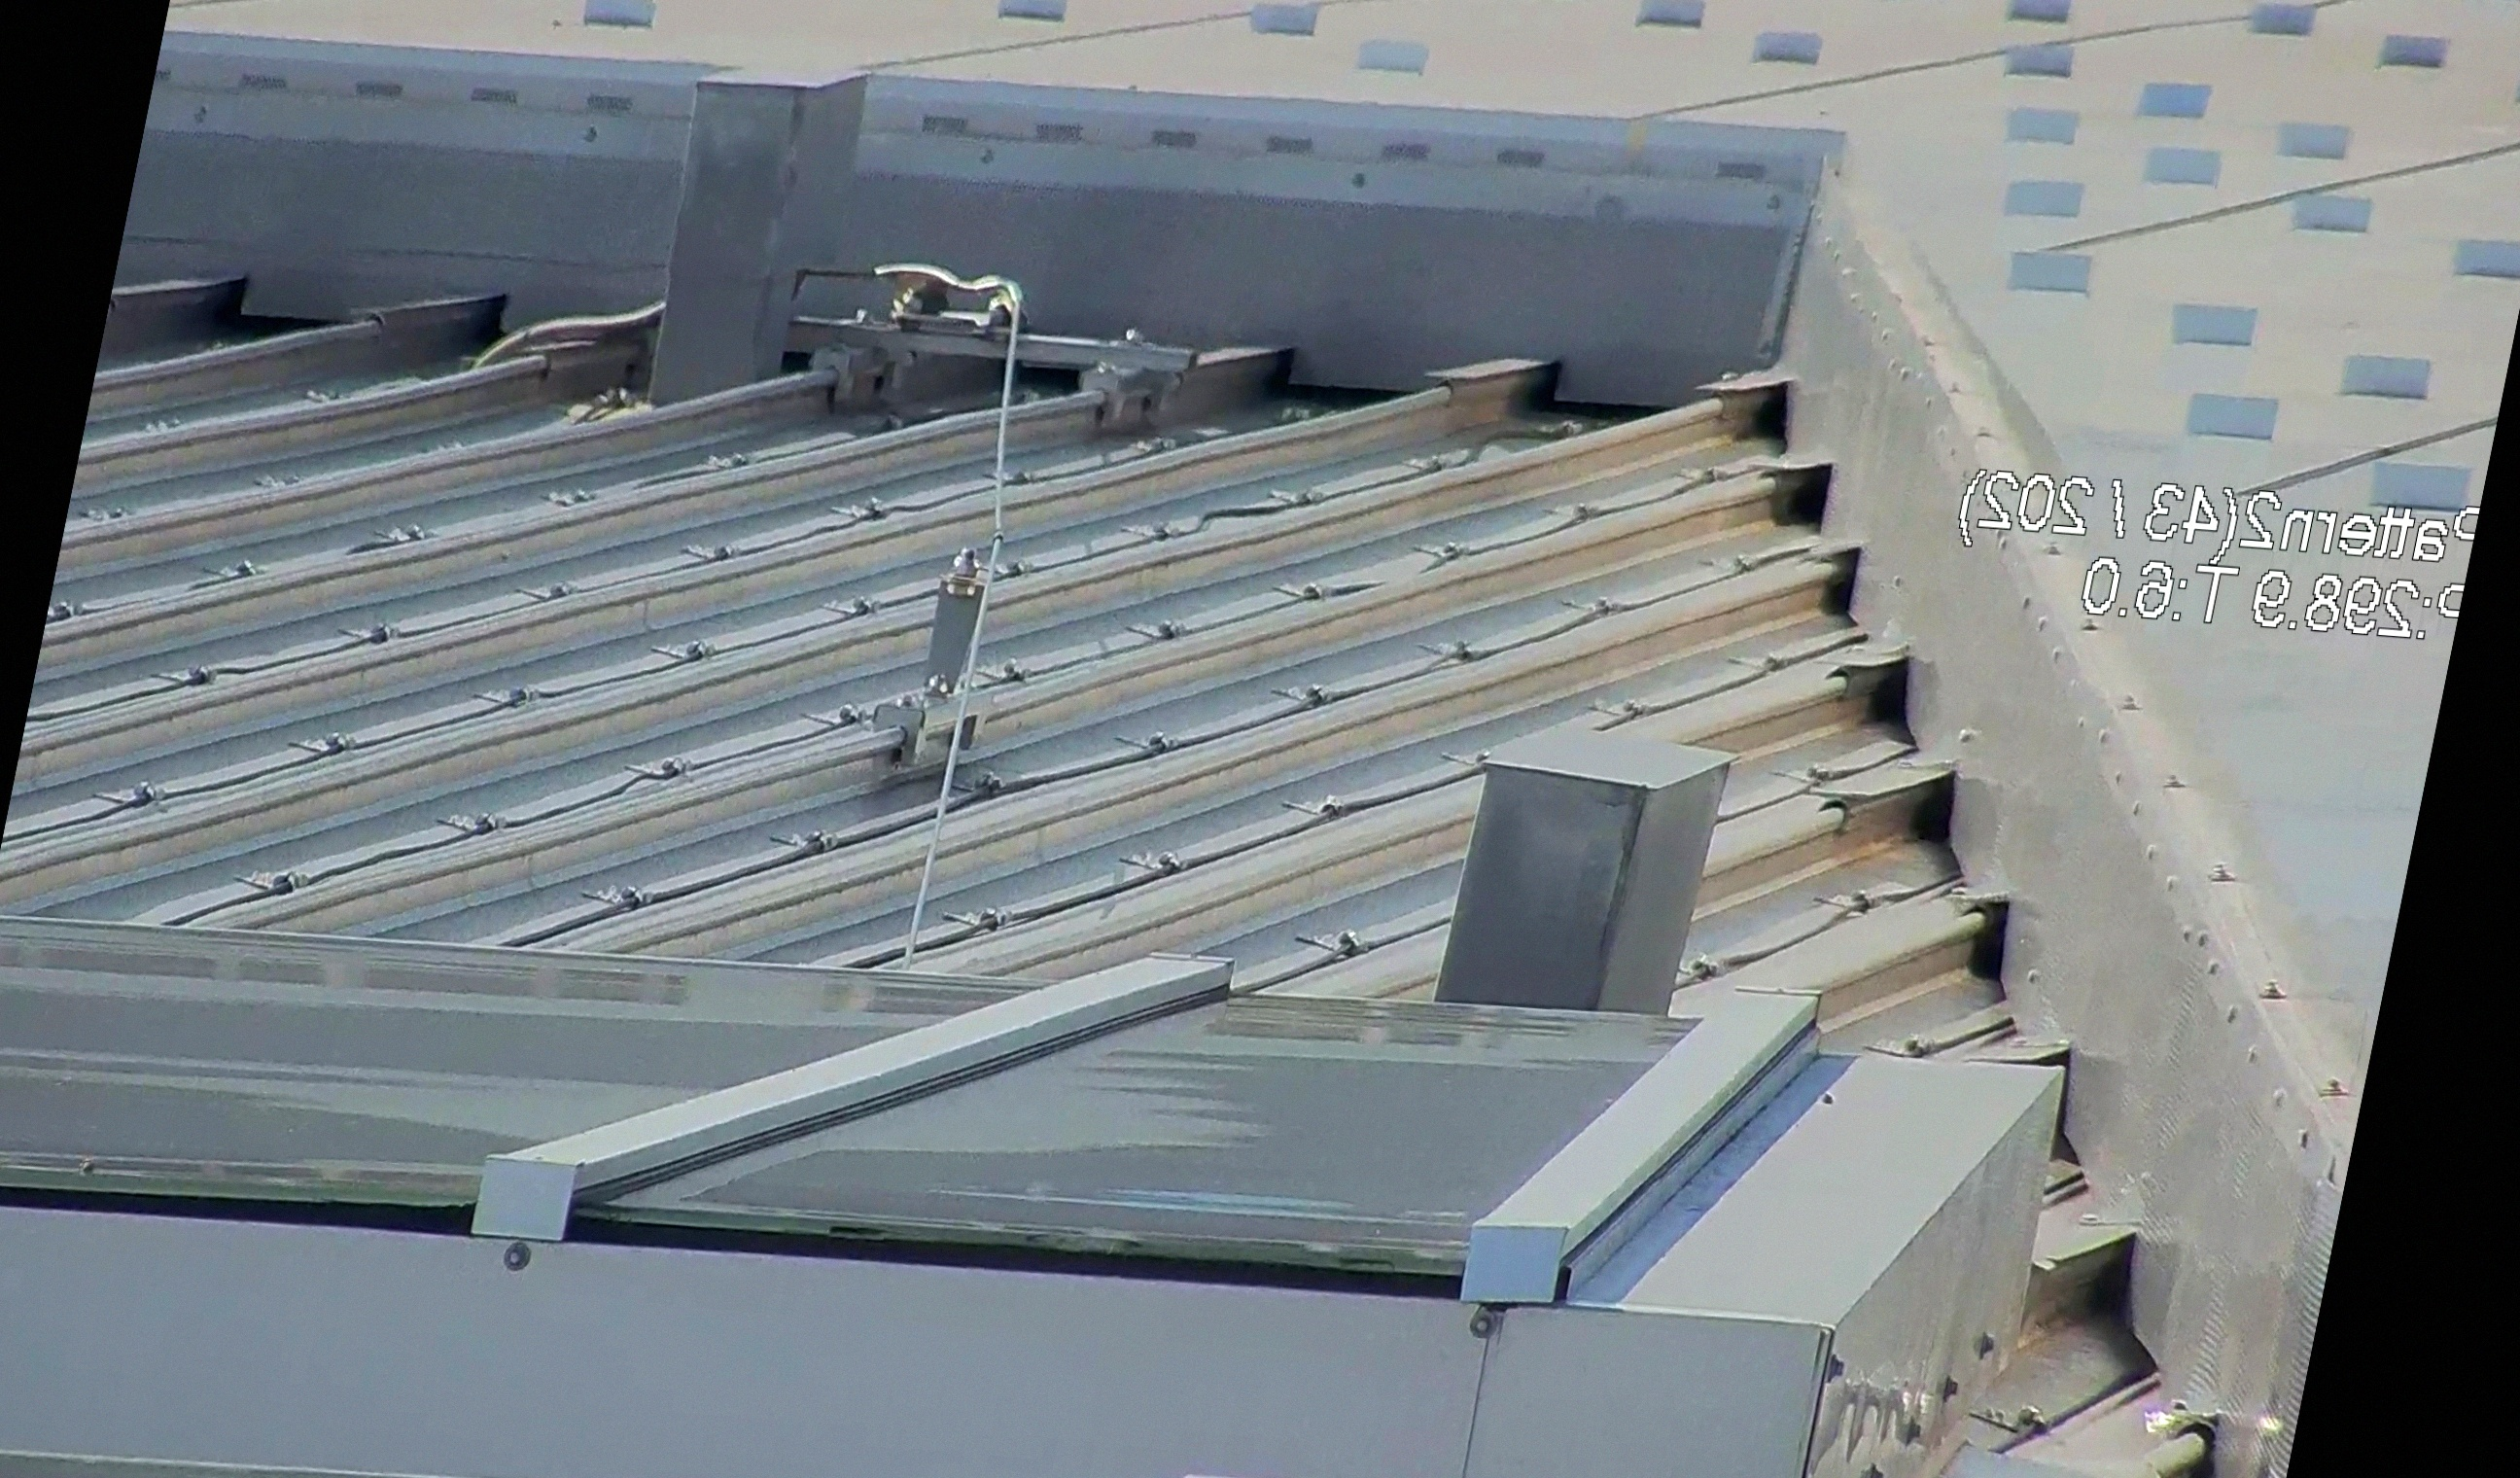Other: (2108, 1387, 2293, 1478)
